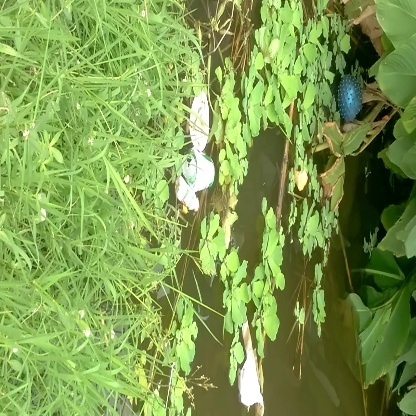ball: (336, 72, 369, 123)
bottle: (176, 147, 230, 200)
